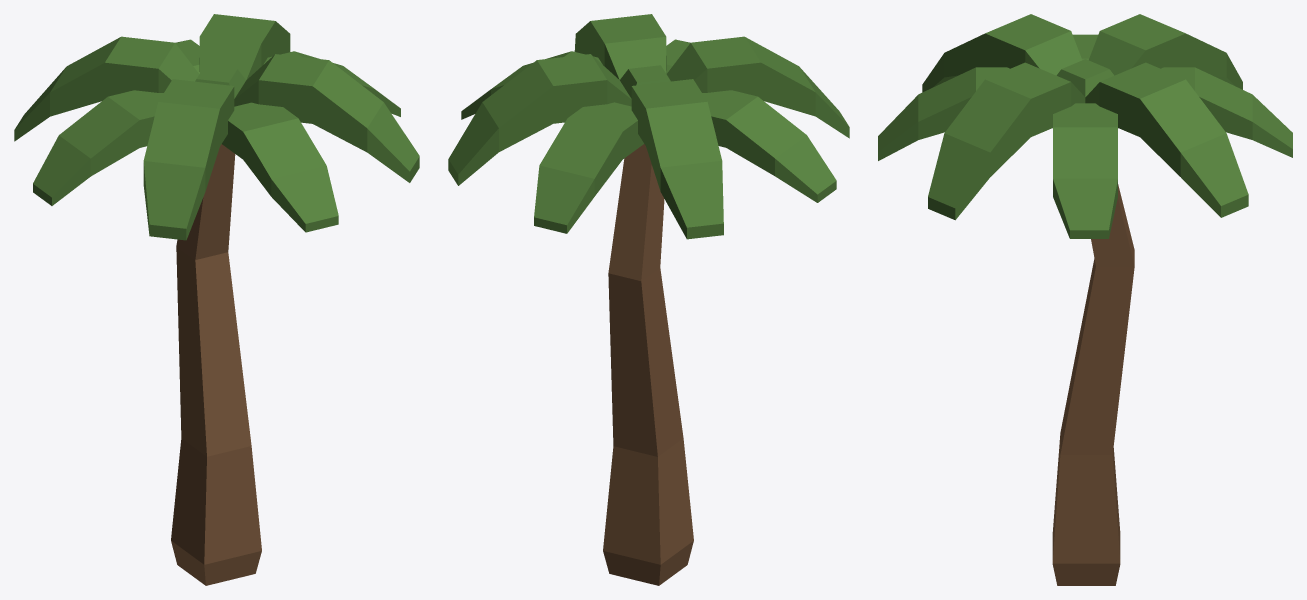
The model's file is tree-palm.glb.
3 views of the same model, side by side, from view 1: azimuth 30°, elevation 25°; view 2: azimuth 150°, elevation 25°; view 3: azimuth 270°, elevation 25° (orthographic).
Visible parts, largest first — view 1: leafs (×2), Mesh tree_palmDetailedTall; view 2: leafs (×2), Mesh tree_palmDetailedTall; view 3: leafs (×2), Mesh tree_palmDetailedTall.
Part boxes in pixels (x1,y1,x2,y2): leafs (×2): (14,14,419,240); Mesh tree_palmDetailedTall: (171,144,261,585); leafs (×2): (448,14,849,239); Mesh tree_palmDetailedTall: (603,144,693,585); leafs (×2): (878,14,1292,238); Mesh tree_palmDetailedTall: (1052,184,1134,585).
Bounding box in the file's own units: 1.03 × 1.42 × 1.03.
